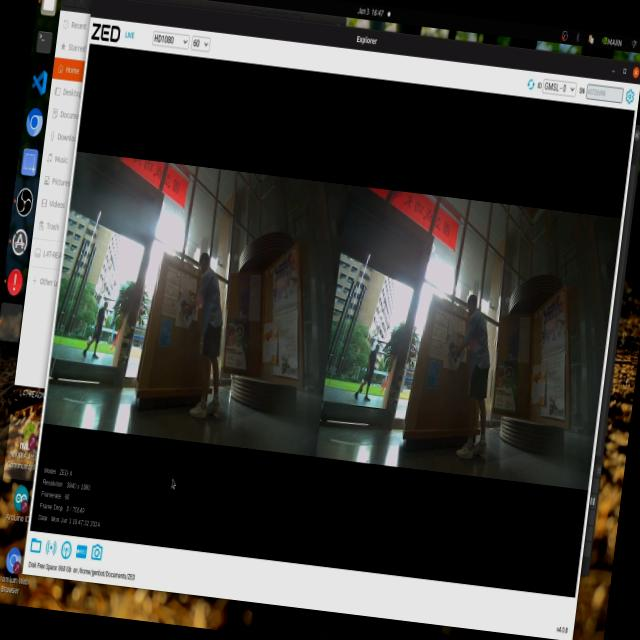blue: (177, 297, 197, 338), (436, 334, 458, 362)
